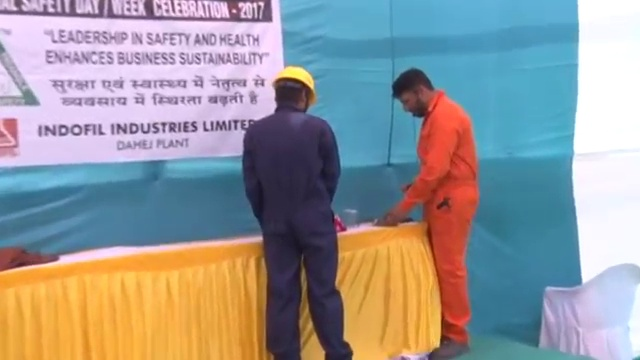helmet: (271, 63, 317, 103)
helmet_off: (388, 66, 434, 118)
helmet_on: (271, 62, 318, 115)
person: (241, 62, 355, 360), (384, 66, 479, 358)
